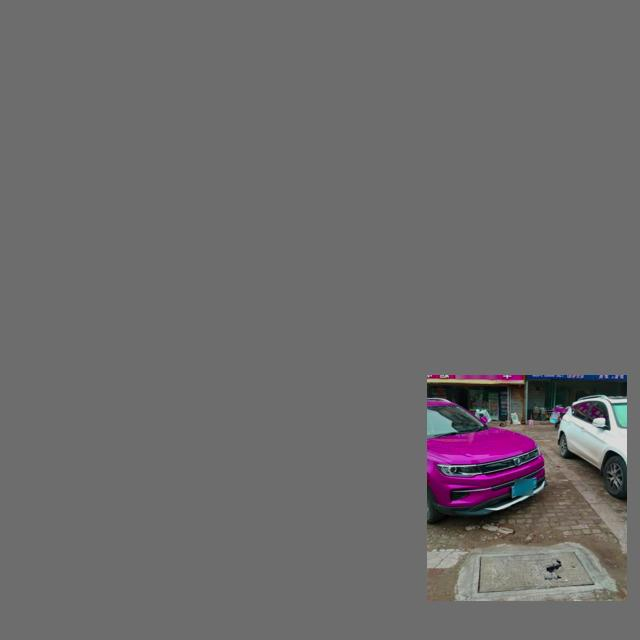broke: (472, 548, 600, 598)
